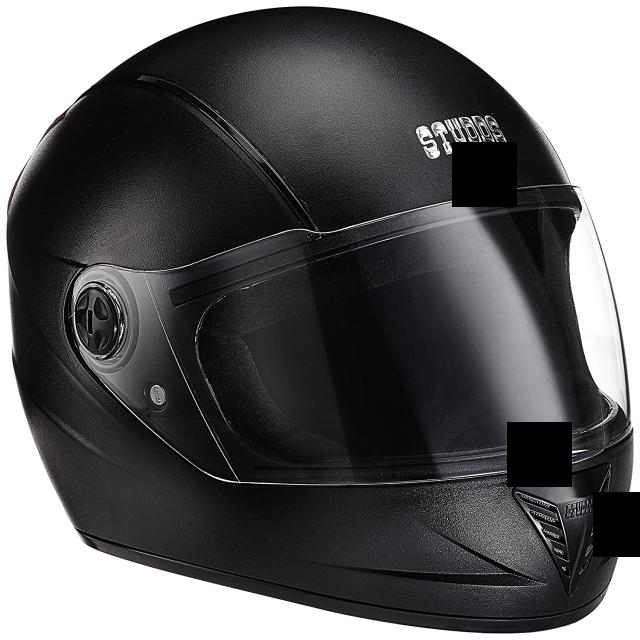Helmet: (8, 8, 632, 631)
